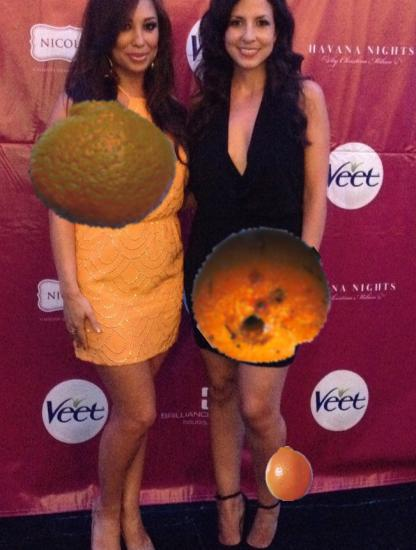Granadilla: (191, 225, 333, 367)
Mandarine: (30, 92, 176, 238)
Tangelo: (262, 446, 318, 502)
